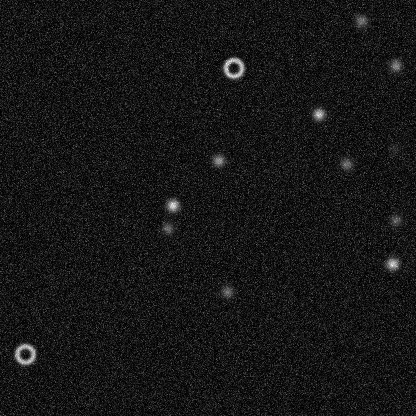Ring: (221, 55, 245, 79), (13, 342, 37, 366)
Spot: (338, 156, 354, 172), (159, 220, 175, 236), (384, 255, 400, 271), (387, 211, 403, 227), (219, 283, 235, 299), (387, 57, 403, 73), (353, 12, 369, 28), (164, 197, 180, 213), (210, 152, 226, 168), (310, 106, 326, 122), (385, 140, 401, 156)
